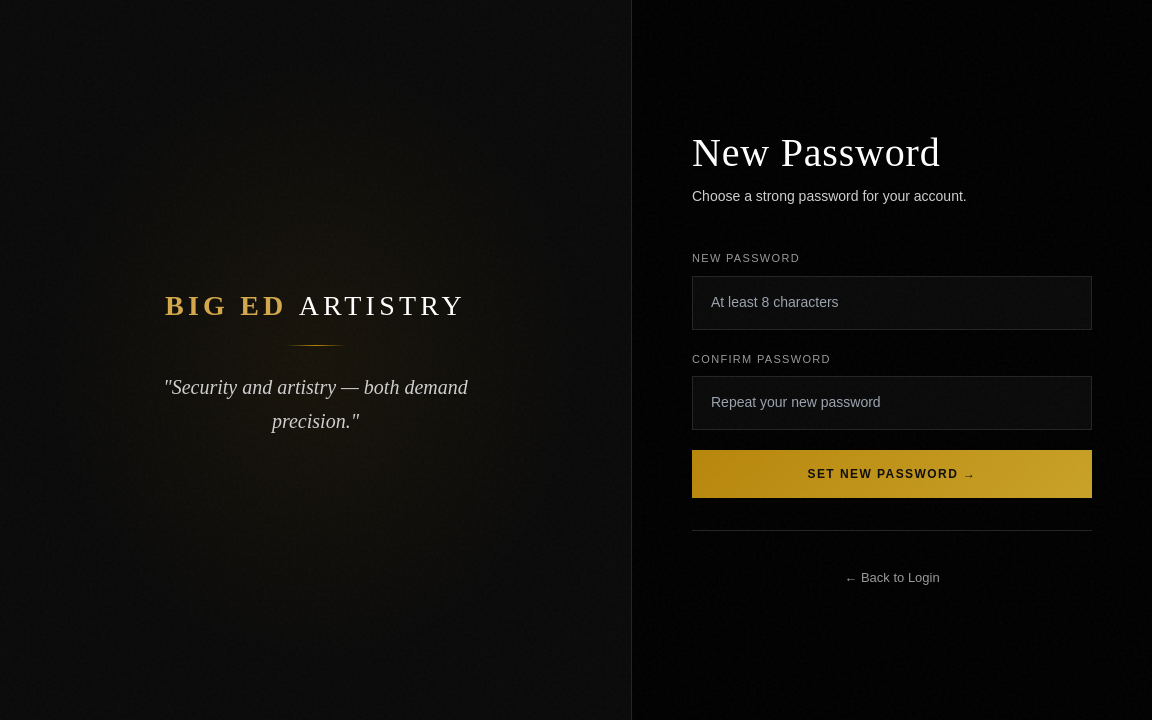
Test: password reset form › shows error when password is too short
The image size is (1152, 720).
In the password field with placeholder "At least 8 characters": (892, 303) left=692, top=276, right=1092, bottom=330, type "short"
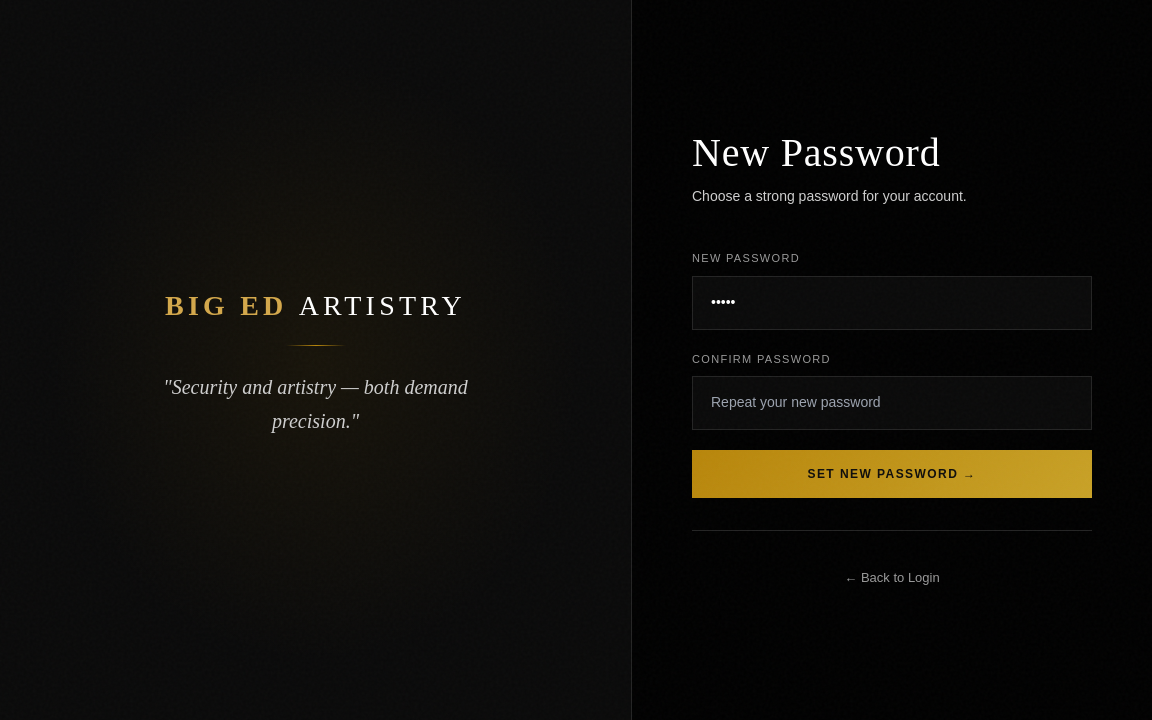
In the password field with placeholder "Repeat your new password": (892, 403) left=692, top=376, right=1092, bottom=430, type "short"
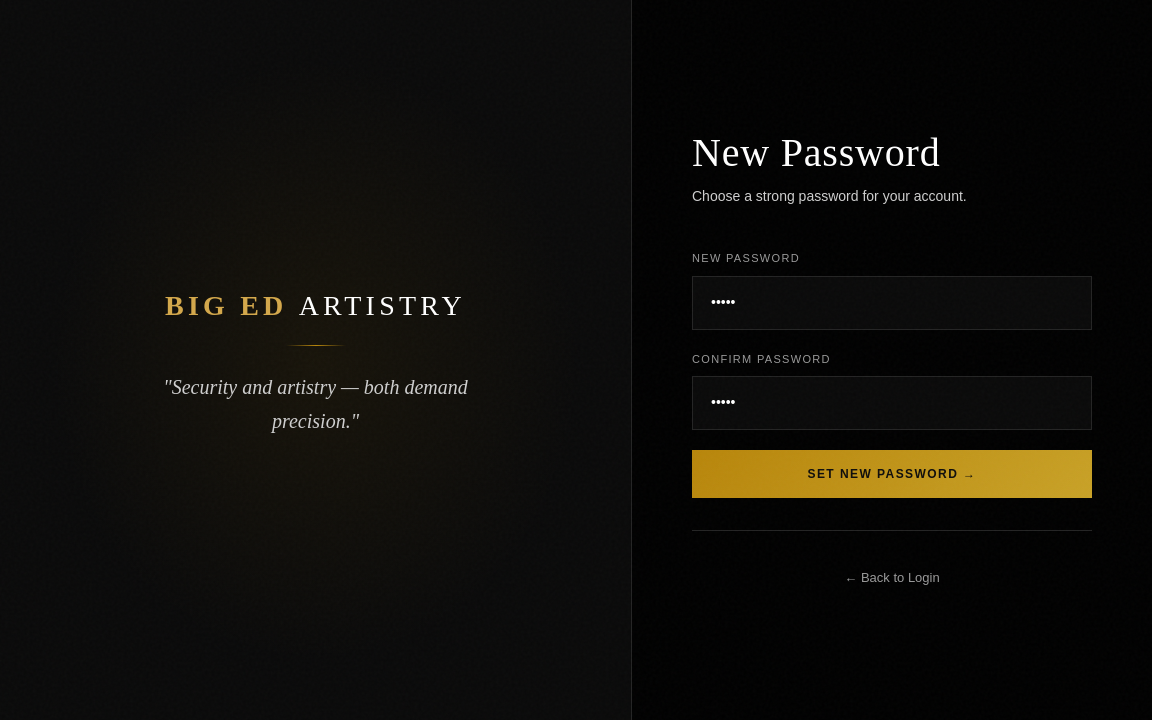
Click the button "Set New Password →": (892, 474) left=692, top=450, right=1092, bottom=498
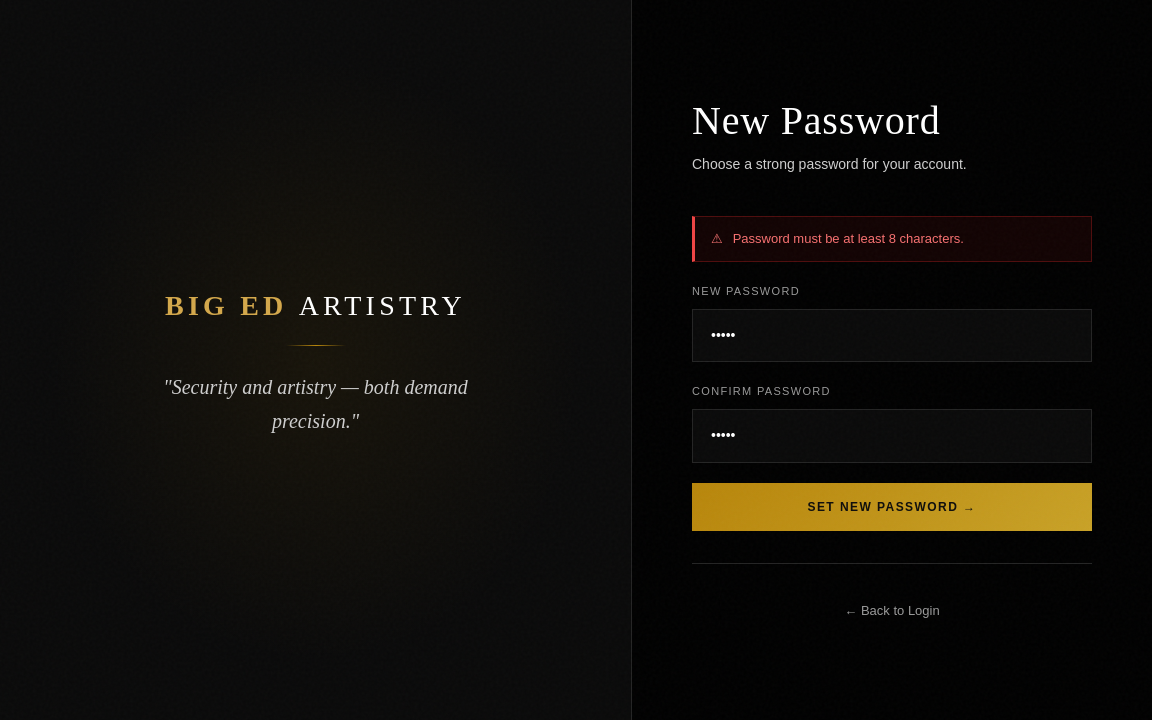
Expected: the text "Password must be at least 8 characters." is shown, left=733, top=229, right=964, bottom=249
